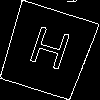H: (23, 25, 74, 79)
